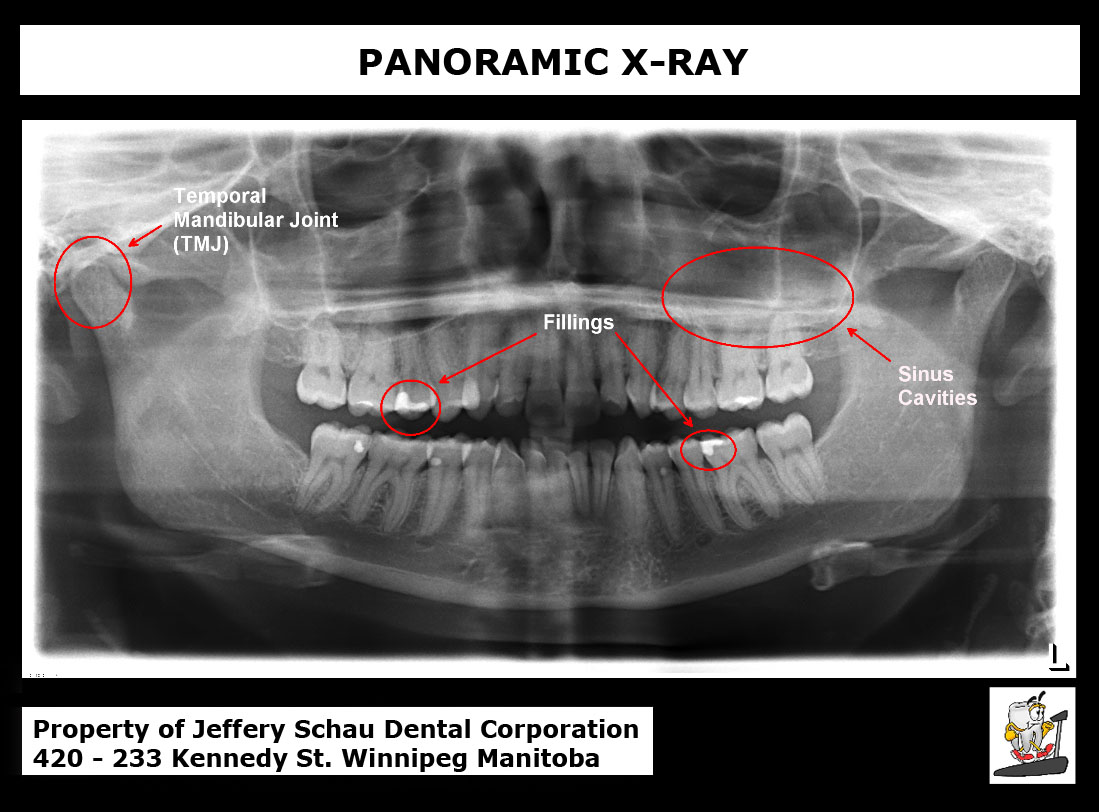canine: (609, 426, 654, 558), (456, 303, 503, 426), (486, 426, 532, 533), (625, 306, 661, 430)
incisor: (522, 307, 571, 437), (557, 300, 606, 430), (493, 296, 534, 431), (591, 300, 632, 420), (537, 426, 575, 533), (520, 429, 557, 532), (585, 426, 617, 525), (565, 435, 596, 518)
molar: (292, 404, 376, 537), (695, 422, 792, 535), (346, 415, 433, 538), (752, 401, 833, 513), (345, 307, 403, 422), (709, 306, 770, 415), (286, 315, 351, 413), (759, 304, 820, 408)
premolar: (409, 319, 487, 427), (418, 421, 476, 547), (663, 424, 724, 539), (635, 433, 691, 550), (647, 305, 694, 428), (392, 319, 440, 432), (679, 308, 723, 425), (456, 424, 499, 542)
